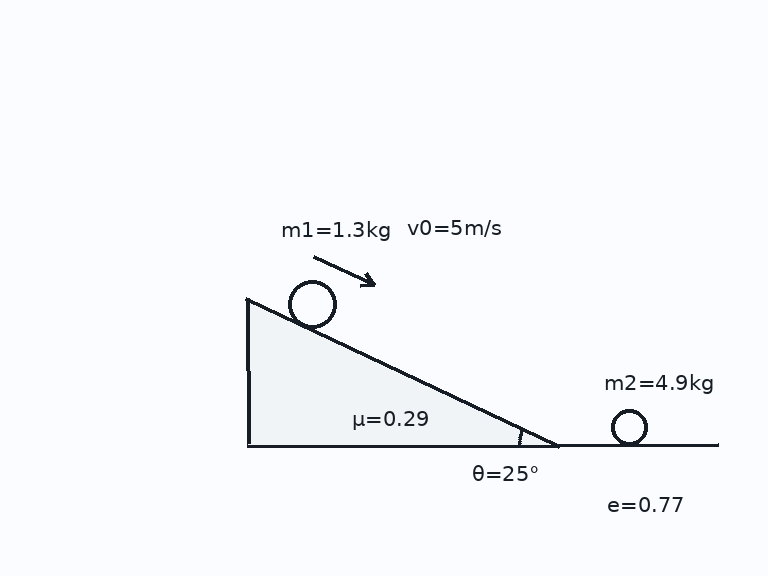ball: (286, 278, 338, 330), (609, 407, 649, 447)
ramp: (245, 298, 561, 447)
